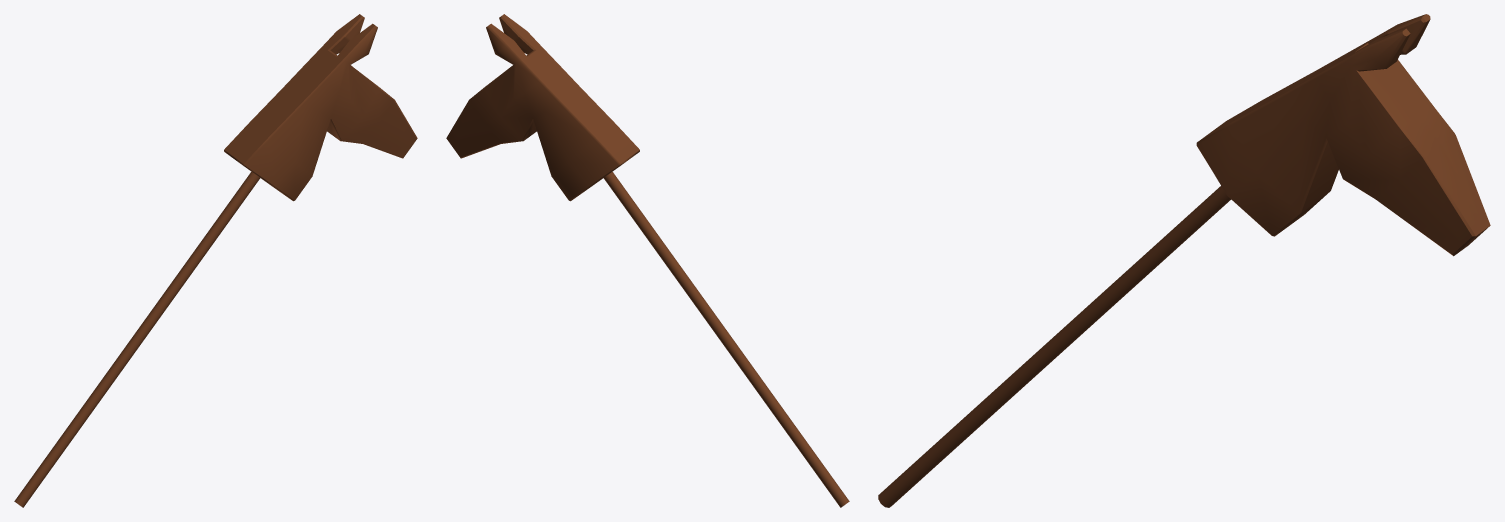
File: HorseHead_01.fbx
3 views of the same model, side by side, from view 1: azimuth 30°, elevation 25°; view 2: azimuth 150°, elevation 25°; view 3: azimuth 330°, elevation 25° (orthographic). The views are drawn at different scales.
Visible parts, largest first — view 1: pCube7; view 2: pCube7; view 3: pCube7.
Boxes of the visible parts, x1,y1,x2,y2 form: pCube7: (14, 14, 417, 507); pCube7: (446, 14, 849, 507); pCube7: (878, 14, 1490, 507).
Bounding box in the file's own units: 66.31 × 64.27 × 8.96.
